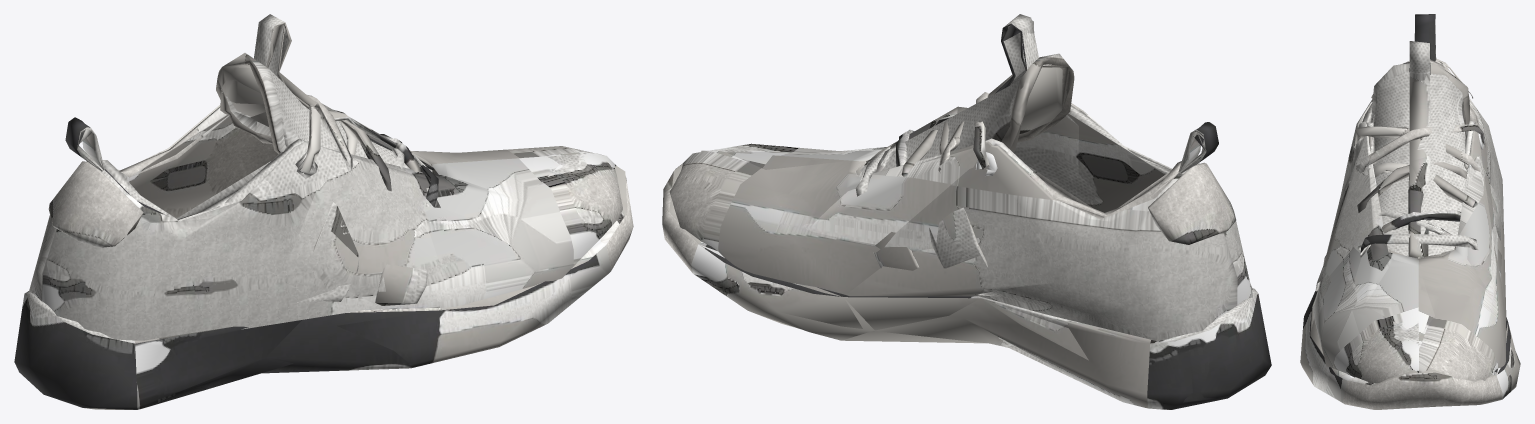
File: shoe-lod.glb
3 views of the same model, side by side, from view 1: azimuth 30°, elevation 25°; view 2: azimuth 150°, elevation 25°; view 3: azimuth 270°, elevation 25° (orthographic). The views are drawn at different scales.
Visible parts, largest first — view 1: lod1, lod2; view 2: lod1, lod2; view 3: lod1, lod2.
Part boxes in pixels (bbox=[...]): lod1: bbox=[14, 22, 633, 409]; lod2: bbox=[77, 14, 626, 409]; lod1: bbox=[662, 14, 1271, 409]; lod2: bbox=[669, 14, 1252, 408]; lod1: bbox=[1300, 14, 1520, 409]; lod2: bbox=[1310, 15, 1507, 385].
Size of the model in its own units: 0.2967 by 0.1518 by 0.1144.
1 material, 1 textured.
